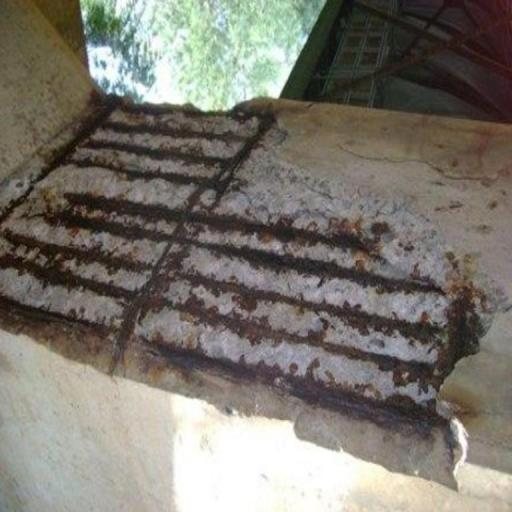spalling: (0, 93, 512, 491)
